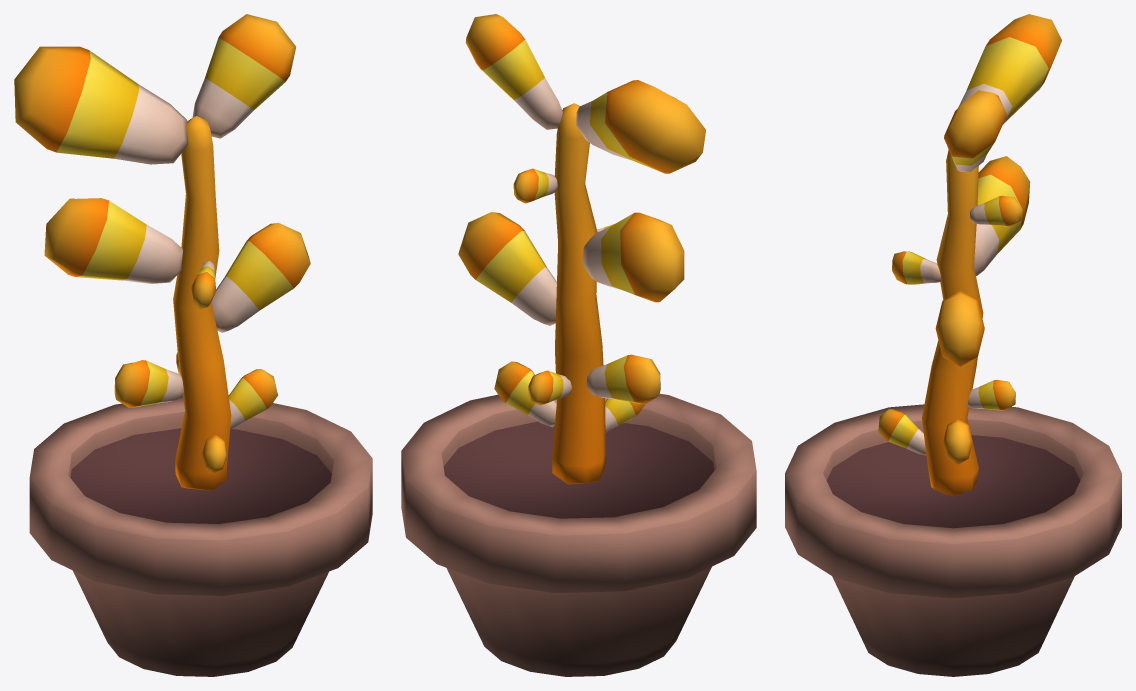
The model's file is wp_wPot_16.fbx.
3 views of the same model, side by side, from view 1: azimuth 30°, elevation 25°; view 2: azimuth 150°, elevation 25°; view 3: azimuth 270°, elevation 25° (orthographic). The views are drawn at different scales.
Visible parts, largest first — view 1: w_pl16; view 2: w_pl16; view 3: w_pl16.
Part boxes in pixels (<box>): w_pl16: <box>14,14,372,676</box>; w_pl16: <box>401,14,756,676</box>; w_pl16: <box>785,14,1121,676</box>.
Size of the model in its own units: 106 by 198 by 105.
